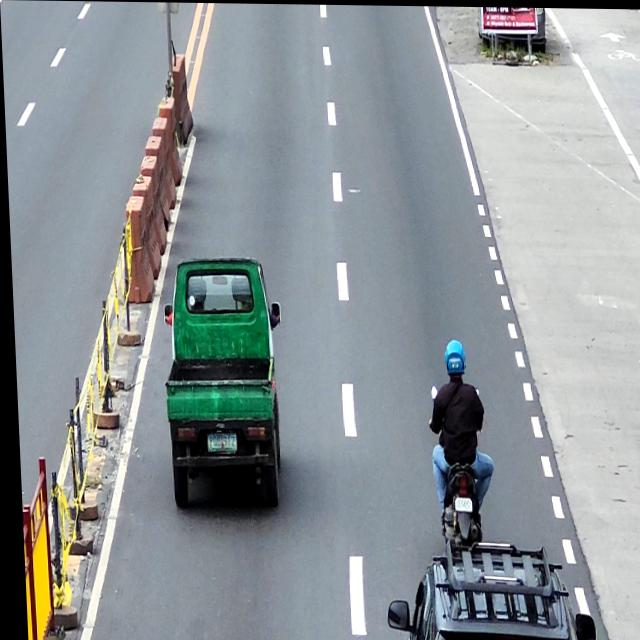Car: (381, 542, 590, 640)
License-Plate: (203, 432, 233, 454), (450, 495, 469, 511)
Motorcycle: (427, 382, 483, 547)
Truck: (156, 255, 285, 508)
